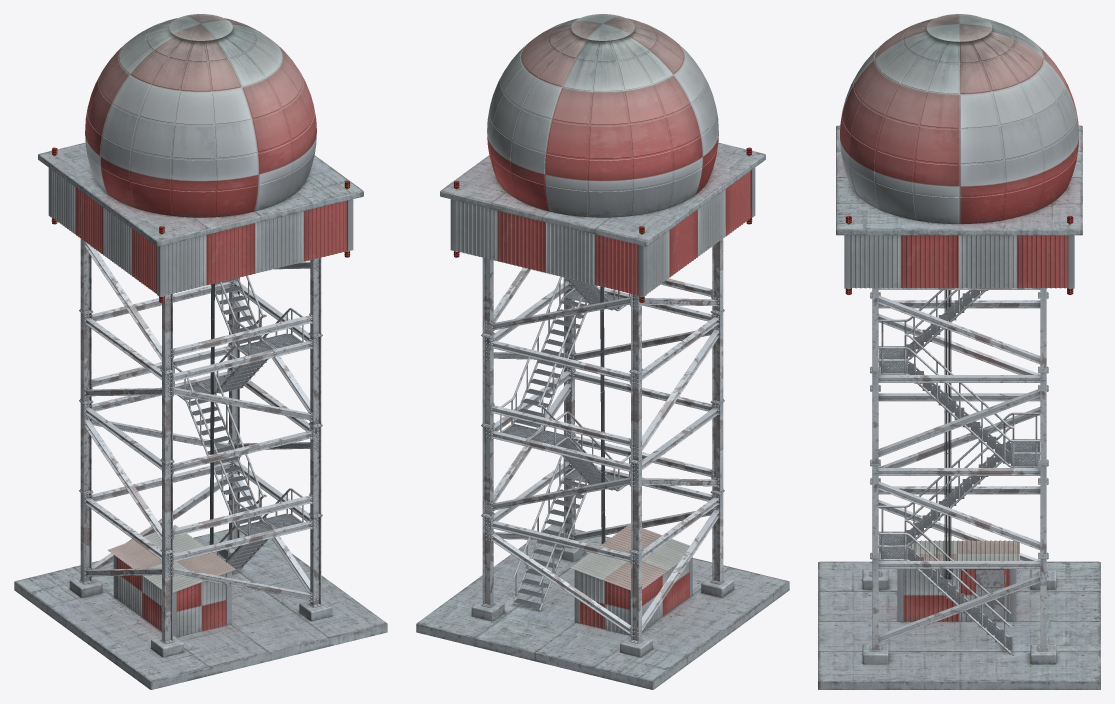
Rendered from radr_tower.obj.
The picture shows the model from 3 angles, left to right: view 1: azimuth 30°, elevation 25°; view 2: azimuth 150°, elevation 25°; view 3: azimuth 270°, elevation 25°; orthographic projection. The views are drawn at different scales.
Parts seen in each view (by area): view 1: RadarTower_RadarTower_0.001, RadarTower_RadarTower_0; view 2: RadarTower_RadarTower_0.001, RadarTower_RadarTower_0; view 3: RadarTower_RadarTower_0.001, RadarTower_RadarTower_0.
Boxes of the visible parts, <box> form: RadarTower_RadarTower_0.001: <box>14,18,386,681</box>; RadarTower_RadarTower_0: <box>14,14,387,689</box>; RadarTower_RadarTower_0.001: <box>417,18,789,681</box>; RadarTower_RadarTower_0: <box>416,14,789,689</box>; RadarTower_RadarTower_0.001: <box>818,18,1100,680</box>; RadarTower_RadarTower_0: <box>818,14,1100,689</box>.
Size of the model in its own units: 9.13 by 21.59 by 9.13.
